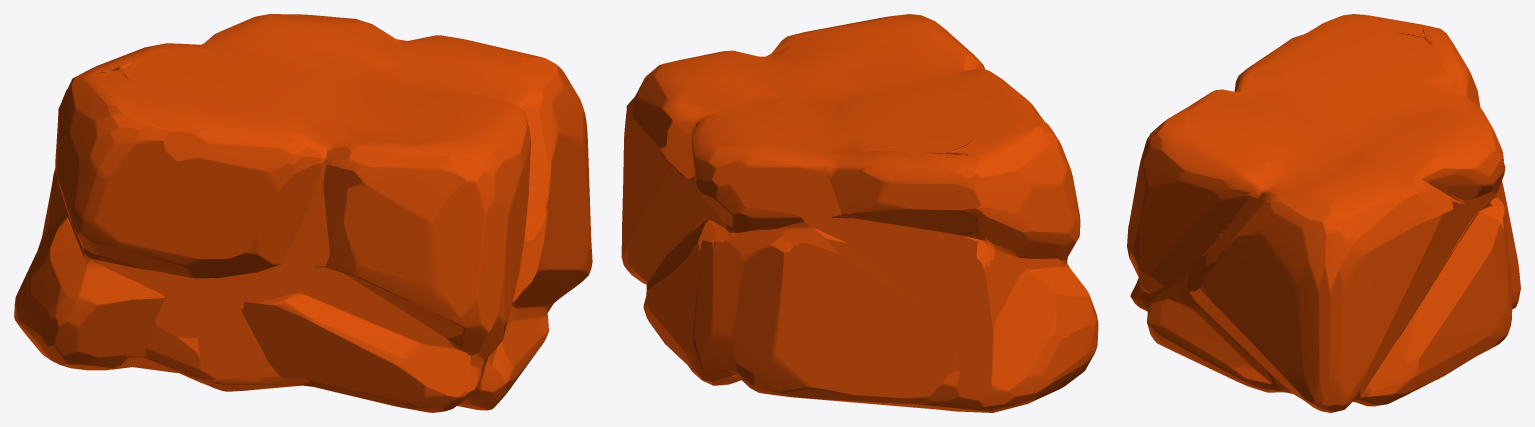
3 views of the same model, side by side, from view 1: azimuth 30°, elevation 25°; view 2: azimuth 150°, elevation 25°; view 3: azimuth 270°, elevation 25° (orthographic). The views are drawn at different scales.
Visible parts, largest first — view 1: Mesh_68_LOD0; view 2: Mesh_68_LOD0; view 3: Mesh_68_LOD0.
Boxes of the visible parts, <box> form: Mesh_68_LOD0: <box>14,14,592,412</box>; Mesh_68_LOD0: <box>621,14,1098,412</box>; Mesh_68_LOD0: <box>1127,14,1520,412</box>.
Size of what is drawn, in the model's own units: 1808 by 974 by 1441.
